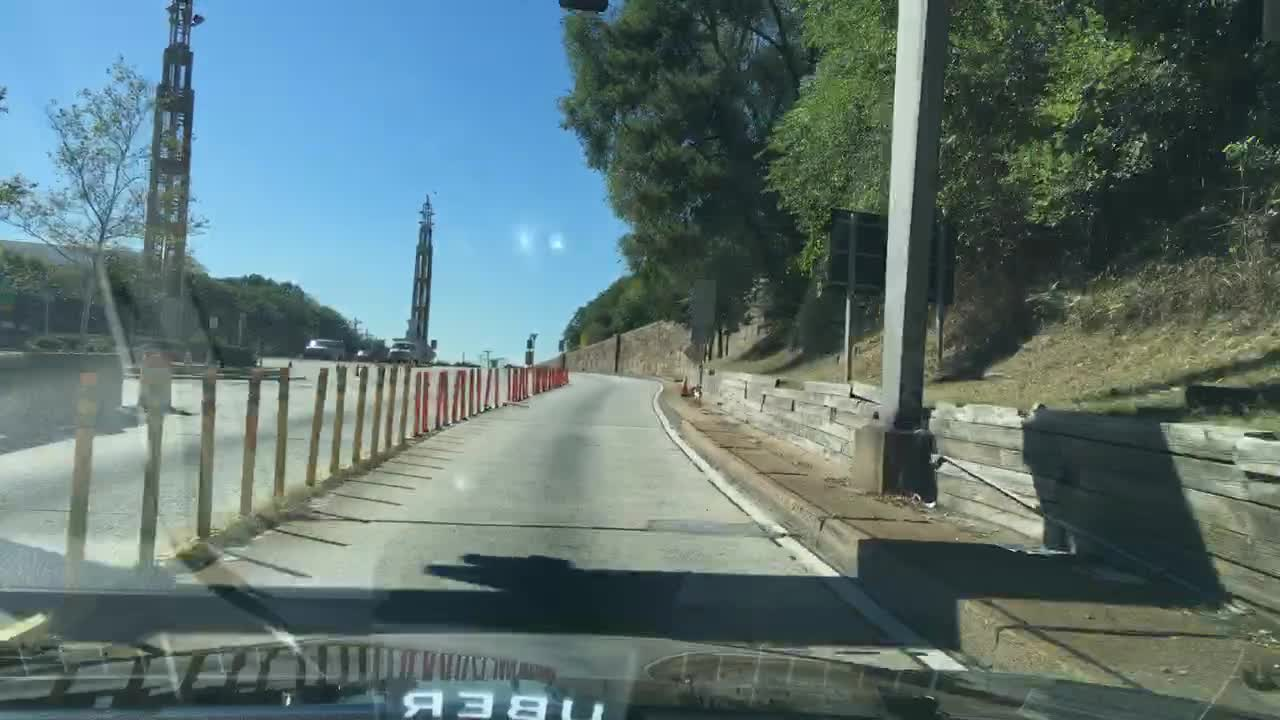car: (303, 334, 347, 357), (386, 340, 426, 364), (354, 345, 384, 361)
traffic sign: (830, 207, 955, 305), (693, 278, 715, 347), (1259, 0, 1275, 42), (207, 312, 216, 330), (526, 350, 533, 364)
